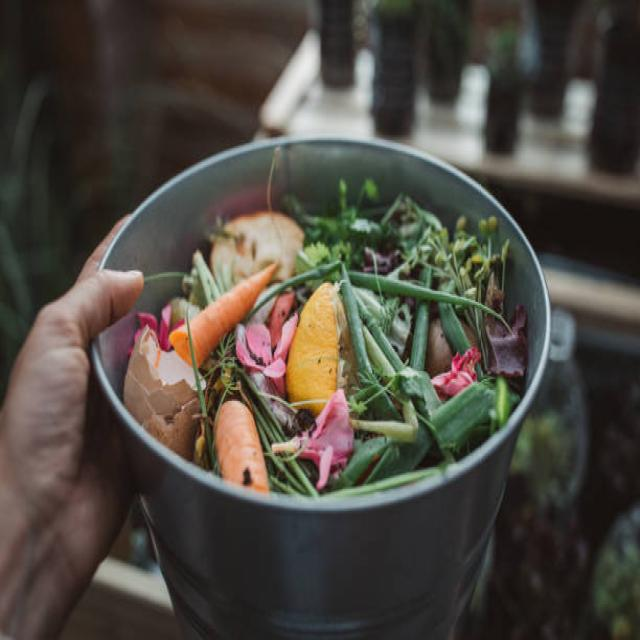paper: (126, 310, 209, 466), (216, 388, 284, 520), (292, 282, 349, 439)
